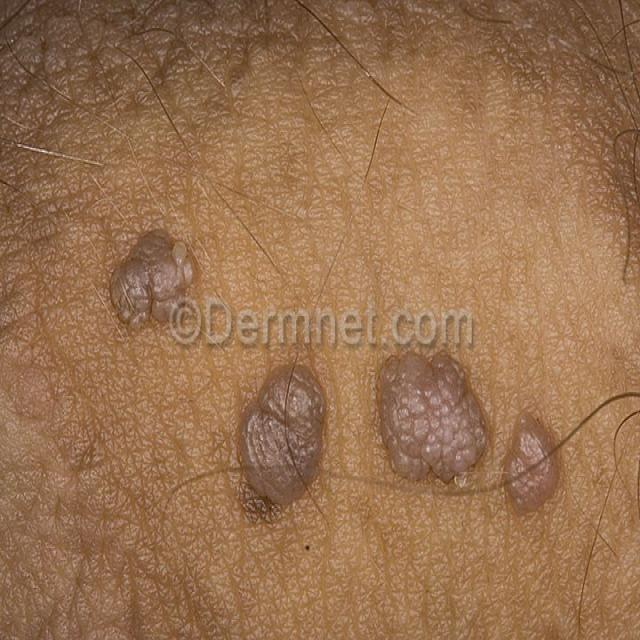Shingles: (375, 339, 490, 482), (238, 356, 327, 511), (104, 222, 202, 326), (499, 406, 559, 511)
